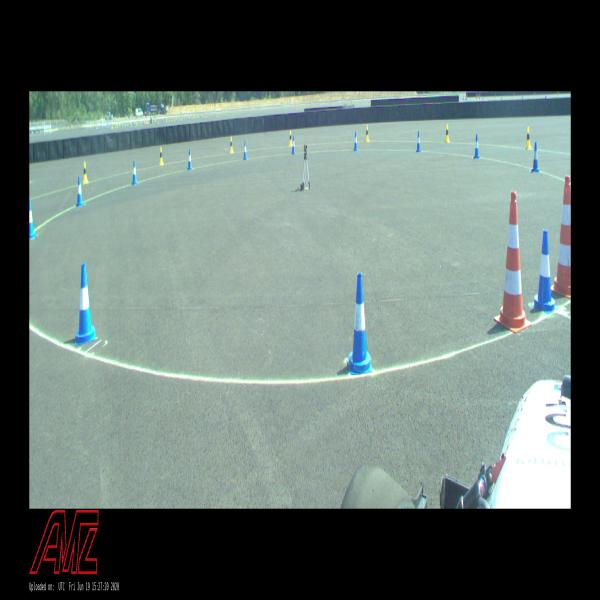blue_cone: (347, 274, 372, 375), (532, 230, 558, 311), (75, 263, 96, 345), (531, 142, 540, 172), (75, 176, 84, 206), (29, 200, 36, 238), (132, 160, 138, 184), (474, 134, 480, 158), (186, 150, 193, 169), (243, 140, 248, 160), (416, 131, 421, 151), (291, 136, 296, 154), (354, 132, 358, 150)
large_orange_cone: (494, 191, 532, 333), (550, 176, 571, 298)
yellow_cone: (525, 126, 531, 148), (82, 162, 88, 183), (444, 124, 450, 142), (159, 147, 164, 165), (229, 137, 234, 153), (365, 125, 369, 141), (288, 131, 292, 146)
